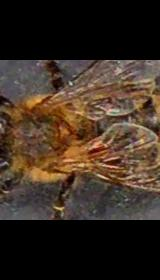varroa_mite: (87, 136, 111, 161)
